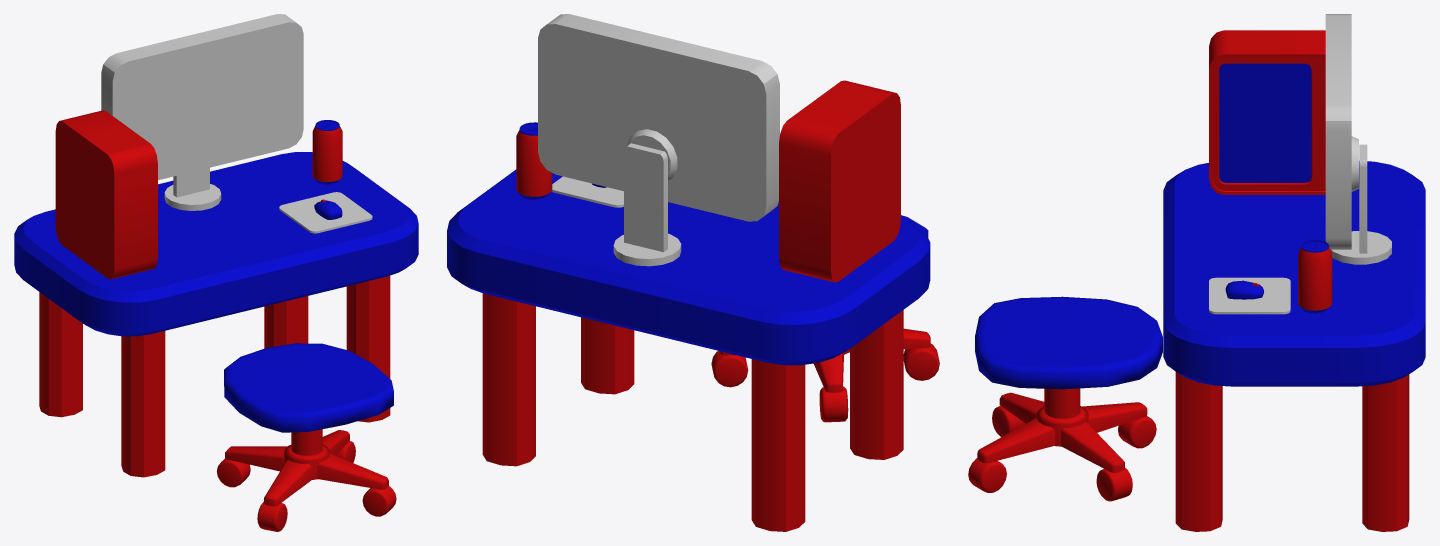
File: 기획방 책상.fbx
3 views of the same model, side by side, from view 1: azimuth 30°, elevation 25°; view 2: azimuth 150°, elevation 25°; view 3: azimuth 270°, elevation 25° (orthographic). The views are drawn at different scales.
Visible parts, largest first — view 1: d_desk_L.002_L, computer_L.002, design chair_L, d_monitor_L, d_desk_h.003, d_desk_h.004; view 2: d_desk_L.002_L, computer_L.002, d_monitor_L, design chair_L, d_desk_h.004, d_desk_h.003; view 3: d_desk_L.002_L, design chair_L, d_monitor_L, computer_L.002, d_desk_h.003, d_desk_h.004, d_mouse_L.
Boxes of the visible parts, x1,y1,x2,y2 form: d_desk_L.002_L: [14, 152, 418, 477]; computer_L.002: [101, 14, 303, 210]; design chair_L: [217, 343, 396, 531]; d_monitor_L: [55, 110, 157, 279]; d_desk_h.003: [279, 192, 372, 233]; d_desk_h.004: [312, 120, 342, 184]; d_desk_L.002_L: [447, 169, 930, 531]; computer_L.002: [538, 14, 779, 266]; d_monitor_L: [779, 80, 900, 282]; design chair_L: [711, 215, 939, 422]; d_desk_h.004: [516, 122, 552, 199]; d_desk_h.003: [551, 176, 623, 207]; d_desk_L.002_L: [1163, 161, 1425, 531]; design chair_L: [968, 296, 1162, 501]; d_monitor_L: [1209, 30, 1325, 194]; computer_L.002: [1325, 14, 1391, 264]; d_desk_h.003: [1209, 277, 1290, 314]; d_desk_h.004: [1298, 240, 1332, 313]; d_mouse_L: [1225, 280, 1263, 299].
Size of the model in its own units: 155 by 163 by 164.
